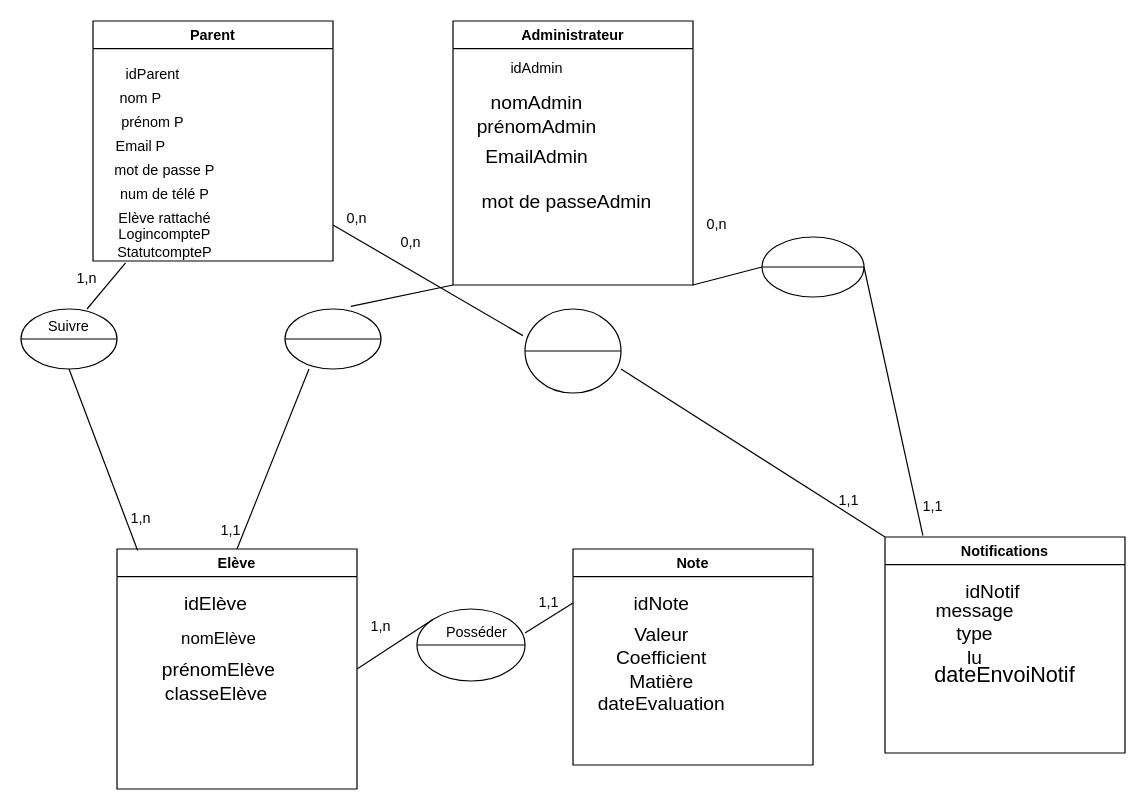
Some shapes in this 1146 by 810 pixel diagram are drawn without their labels. The shapes that lost their labels are listed below. From the top down, each one's centre as x and y in pixels, then its label:
At pixel 812 266: "Emettre".
At pixel 332 338: "Administrer".
At pixel 572 350: "Destiner".
